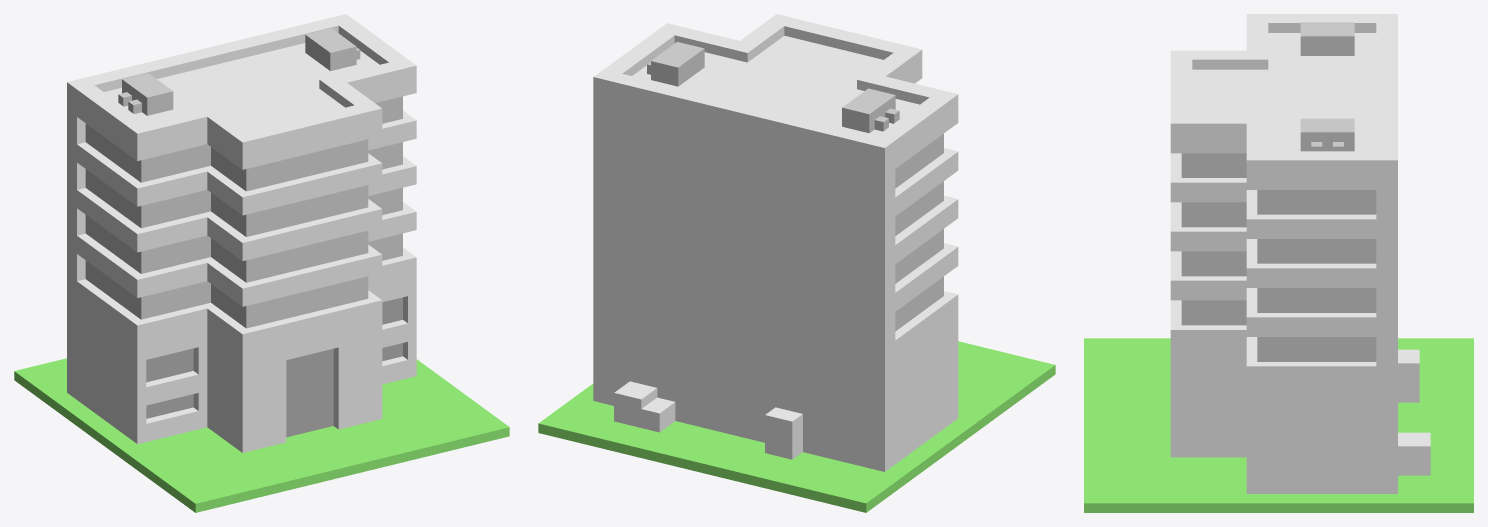
The picture shows the model from 3 angles, left to right: view 1: azimuth 30°, elevation 25°; view 2: azimuth 150°, elevation 25°; view 3: azimuth 270°, elevation 25°; orthographic projection. The views are drawn at different scales.
Parts seen in each view (by area): view 1: ObjObject.007; view 2: ObjObject.007; view 3: ObjObject.007.
Part boxes in pixels (box(x1,y1,x2,y2)): ObjObject.007: box(14, 14, 509, 512); ObjObject.007: box(538, 14, 1055, 512); ObjObject.007: box(1084, 14, 1473, 512).
Size of the model in its own units: 3.6 by 3.6 by 3.6.
